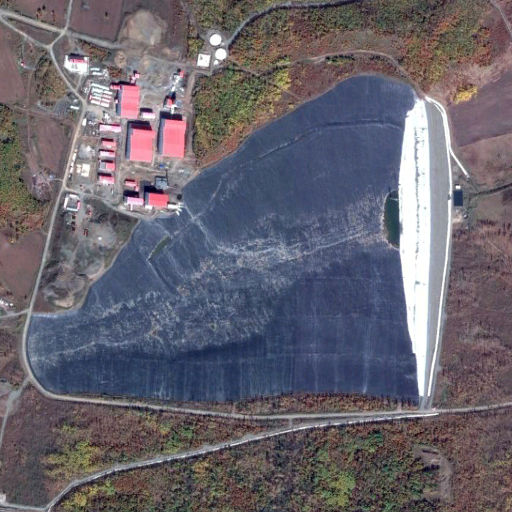lf: (26, 79, 428, 403)
